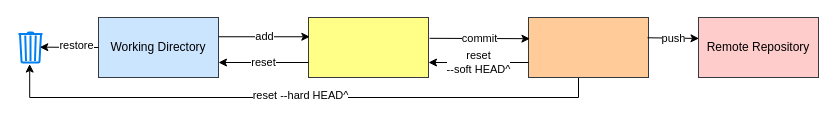
Image size: 836x123. Some labels were removed from this diagram. The centre of each missing label's shape, as x and y in pixels:
"Local Repository" goes at point 588,47.
"Staging Area" goes at point 368,47.
